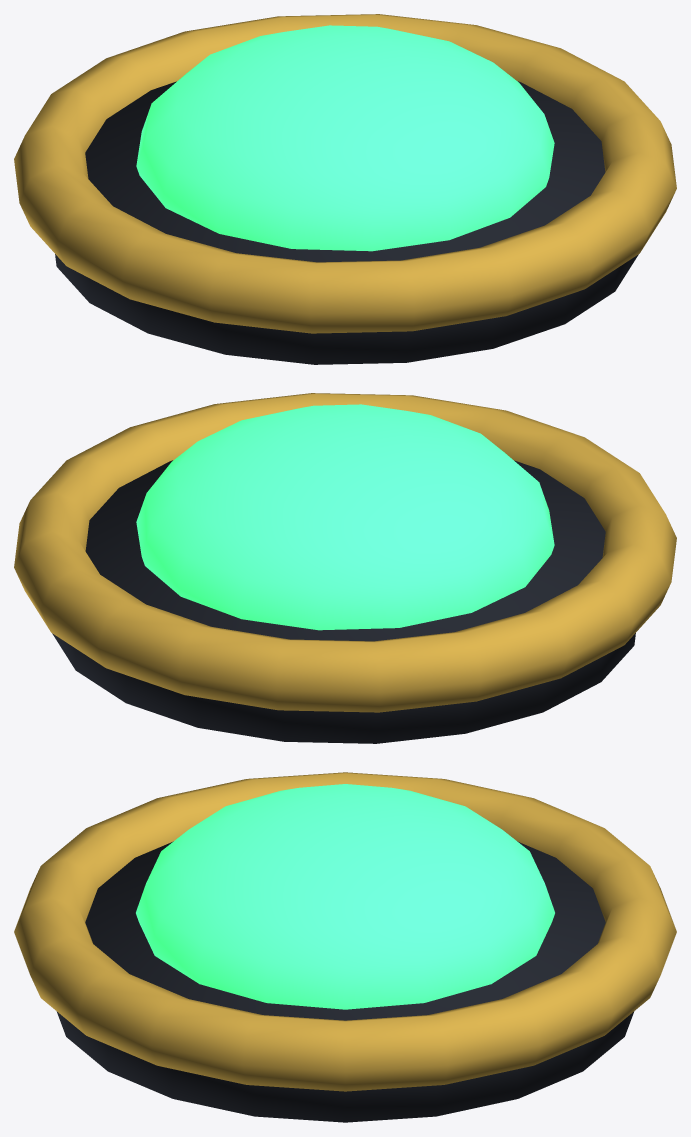
Rendered from Affordance_StatePuck.fbx.
3 renders of one model, top to bottom at view 1: azimuth 30°, elevation 25°; view 2: azimuth 150°, elevation 25°; view 3: azimuth 270°, elevation 25°, orthographic.
Visible parts, largest first — view 1: StatePuck_Rim, StatePuck_GlowCore, StatePuck_Base; view 2: StatePuck_Rim, StatePuck_GlowCore, StatePuck_Base; view 3: StatePuck_Rim, StatePuck_GlowCore, StatePuck_Base.
Part boxes in pixels (x1,y1,x2,y2): StatePuck_Rim: (14,14,676,333); StatePuck_GlowCore: (136,25,554,251); StatePuck_Base: (55,81,638,364); StatePuck_Rim: (14,393,676,712); StatePuck_GlowCore: (136,404,554,630); StatePuck_Base: (52,460,635,743); StatePuck_Rim: (14,772,676,1091); StatePuck_GlowCore: (136,784,554,1009); StatePuck_Base: (56,841,634,1122).
Size of the model in its own units: 3.16 by 1 by 3.16.
